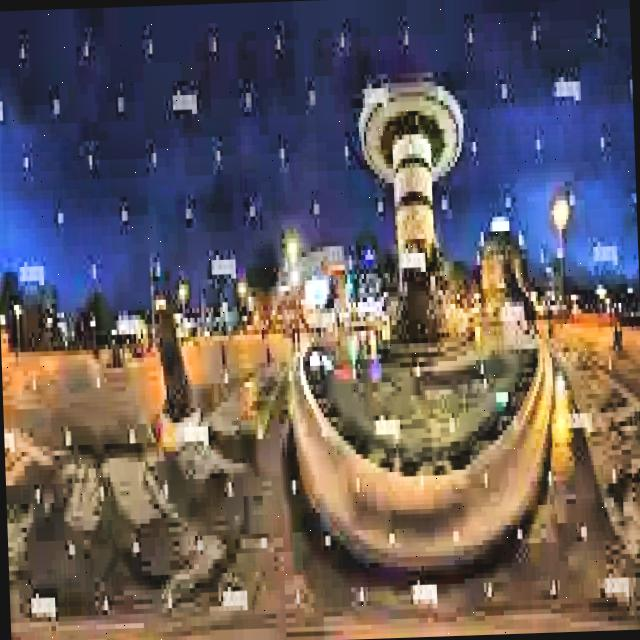alexander the great monument: (270, 0, 570, 578)
